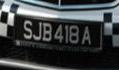1: (64, 24, 69, 44)
4: (53, 23, 64, 43)
8: (69, 25, 80, 44)
A: (81, 25, 92, 45)
B: (42, 21, 52, 43)
J: (33, 21, 42, 42)
S: (22, 19, 33, 40)
